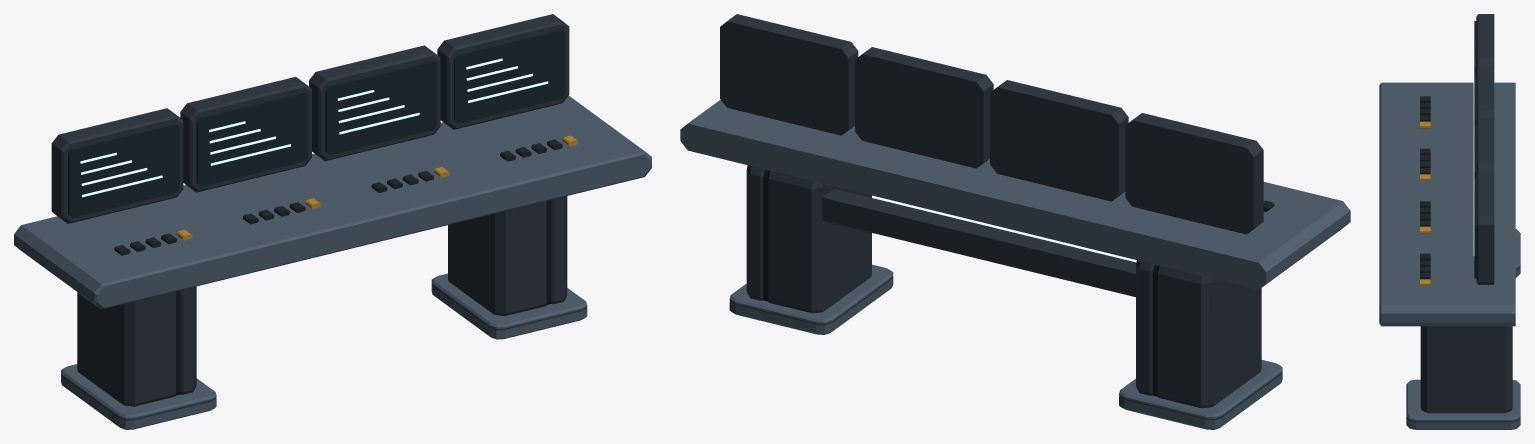
File: B-04_airlock_console.glb
3 renders of one model, left to right at view 1: azimuth 30°, elevation 25°; view 2: azimuth 150°, elevation 25°; view 3: azimuth 270°, elevation 25°, orthographic. The views are drawn at different scales.
Visible parts, largest first — view 1: B-04_airlock_console; view 2: B-04_airlock_console; view 3: B-04_airlock_console.
Boxes of the visible parts, box(x1,y1,x2,y2) form: B-04_airlock_console: box(14, 14, 651, 429); B-04_airlock_console: box(680, 14, 1350, 429); B-04_airlock_console: box(1379, 14, 1520, 429).
Size of the model in its own units: 3.4 by 1.53 by 0.89.
